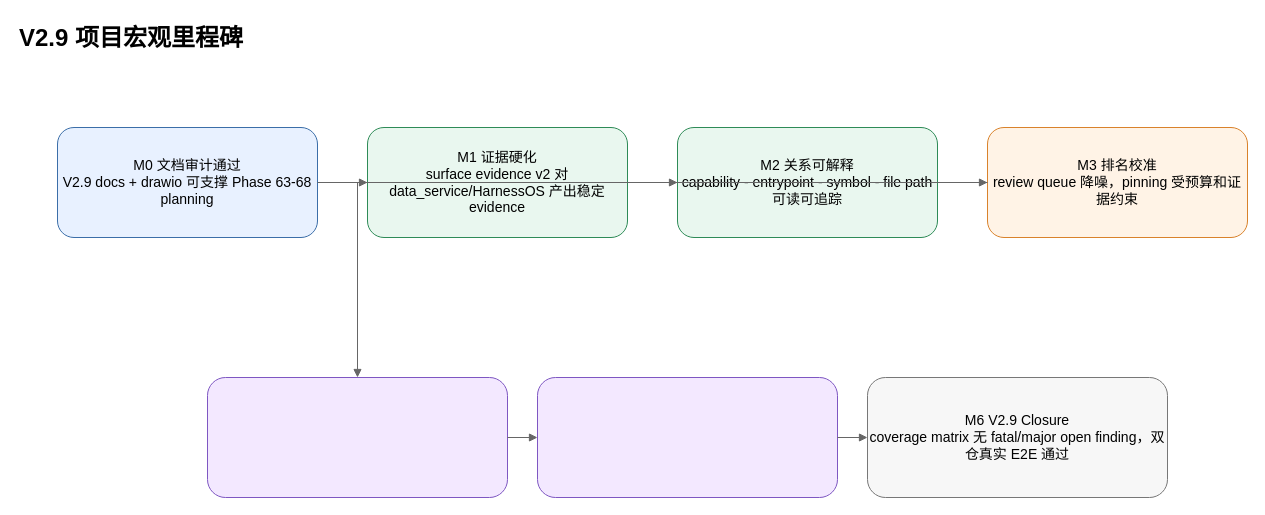
Image size: 1265x515. Some labels were removed from this diagram. Each missing label, with the box of its shape:
M4 人类报告可审计 HTML 图表能解释架构、风险和证据强弱: (206, 376, 508, 498)
M5 Agent 上下文可用 Context Pack v3 对阅读/开发/架构审计角色稳定输出: (536, 376, 838, 498)
